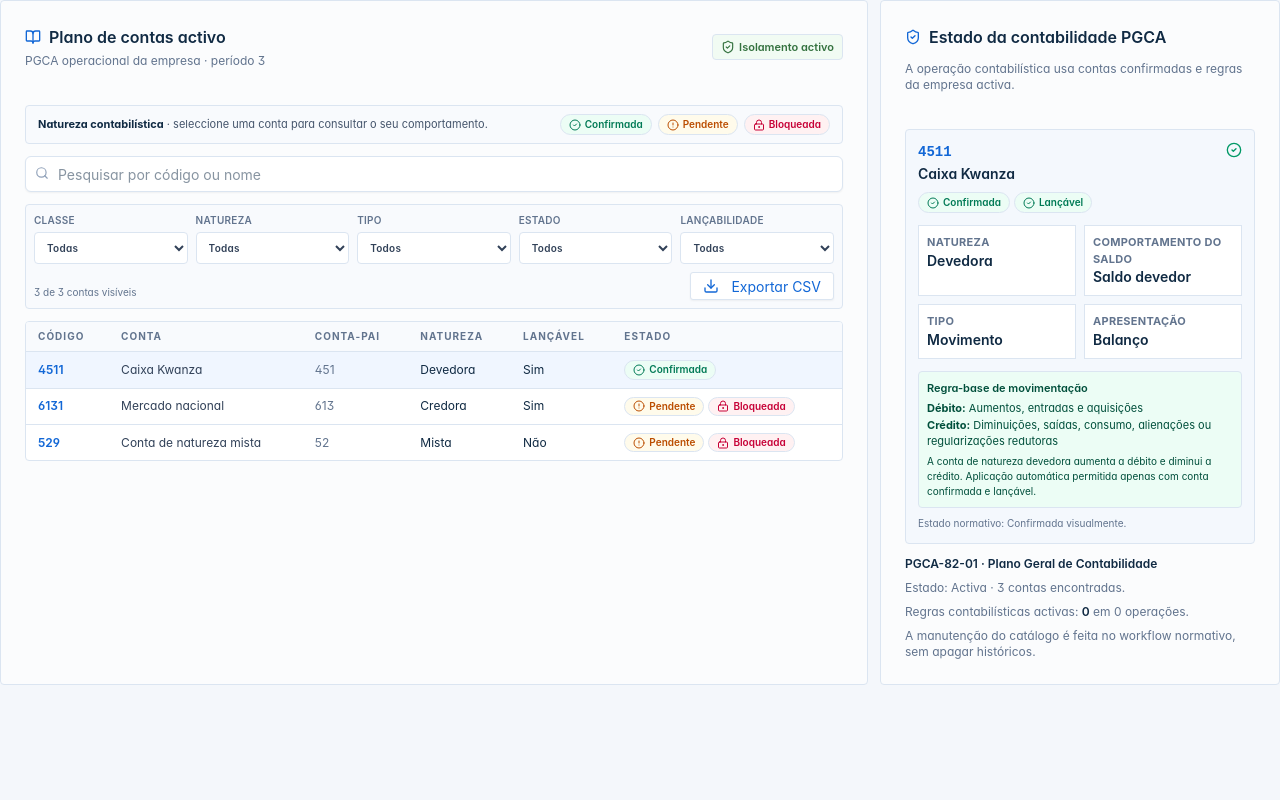
it: protótipo do motor contabilístico › mantém uma conta pendente fora do lançamento automático quando seleccionada
The image size is (1280, 800).
Click the text "6131" at point(51, 406), box [26, 388, 109, 424]
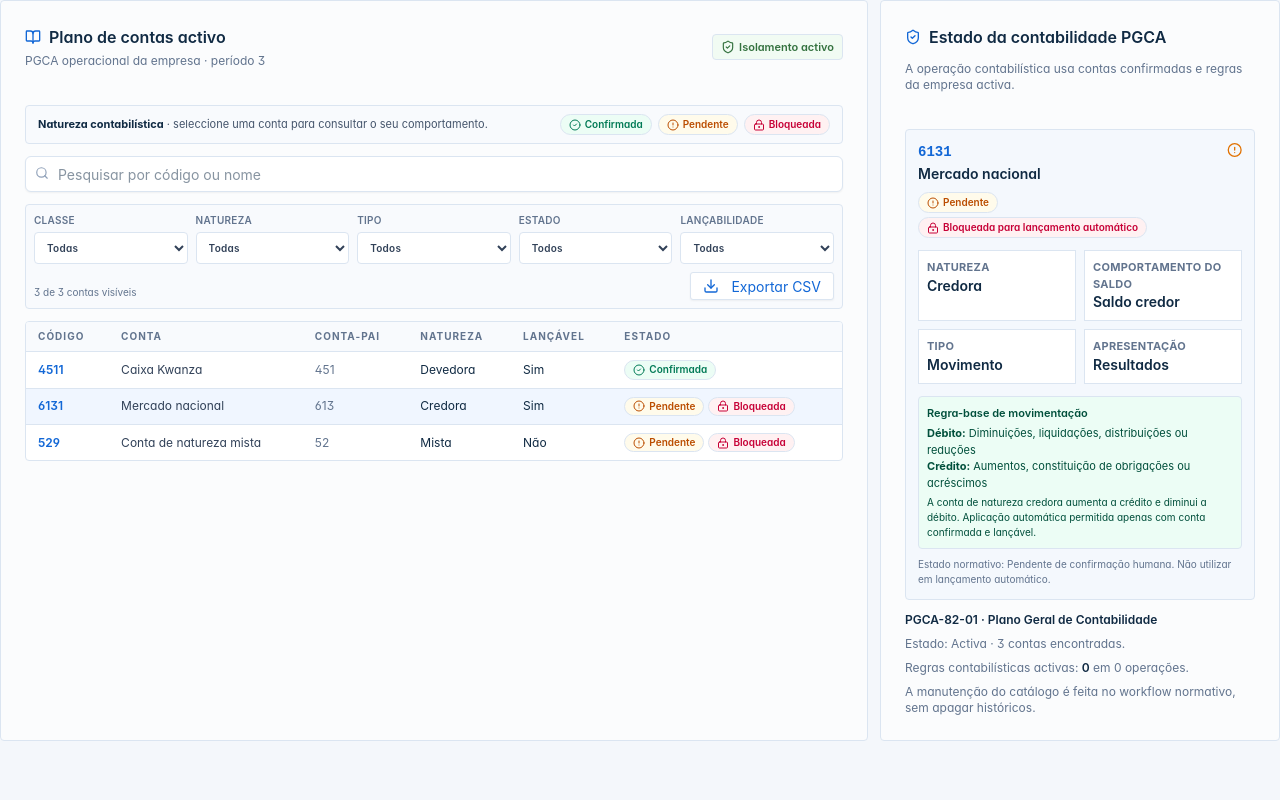
Expected: the text "Saldo credor" is shown, [1093, 293, 1180, 310]
Expected: the text "Não utilizar em lançamento automático" is shown, [918, 558, 1231, 585]
